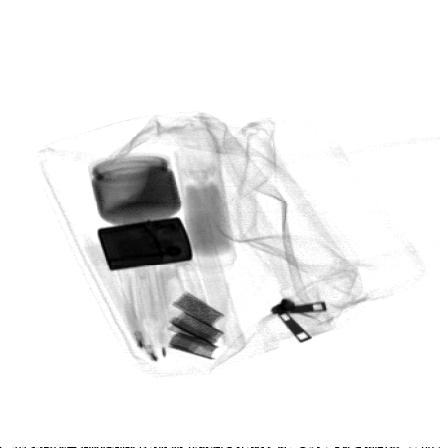Lighter: (97, 216, 194, 270)
